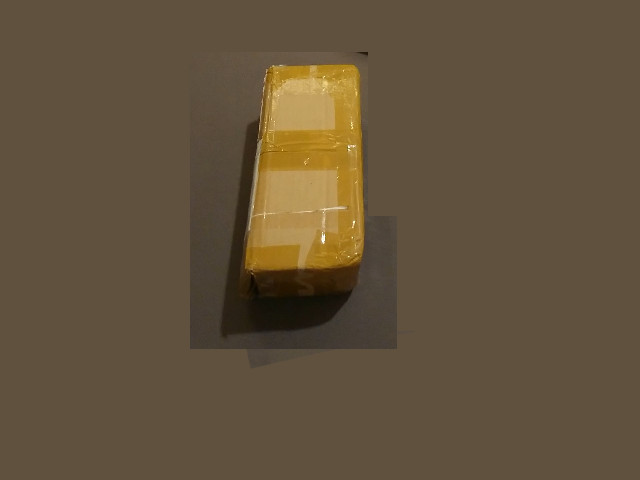cardboard: (240, 62, 360, 290)
